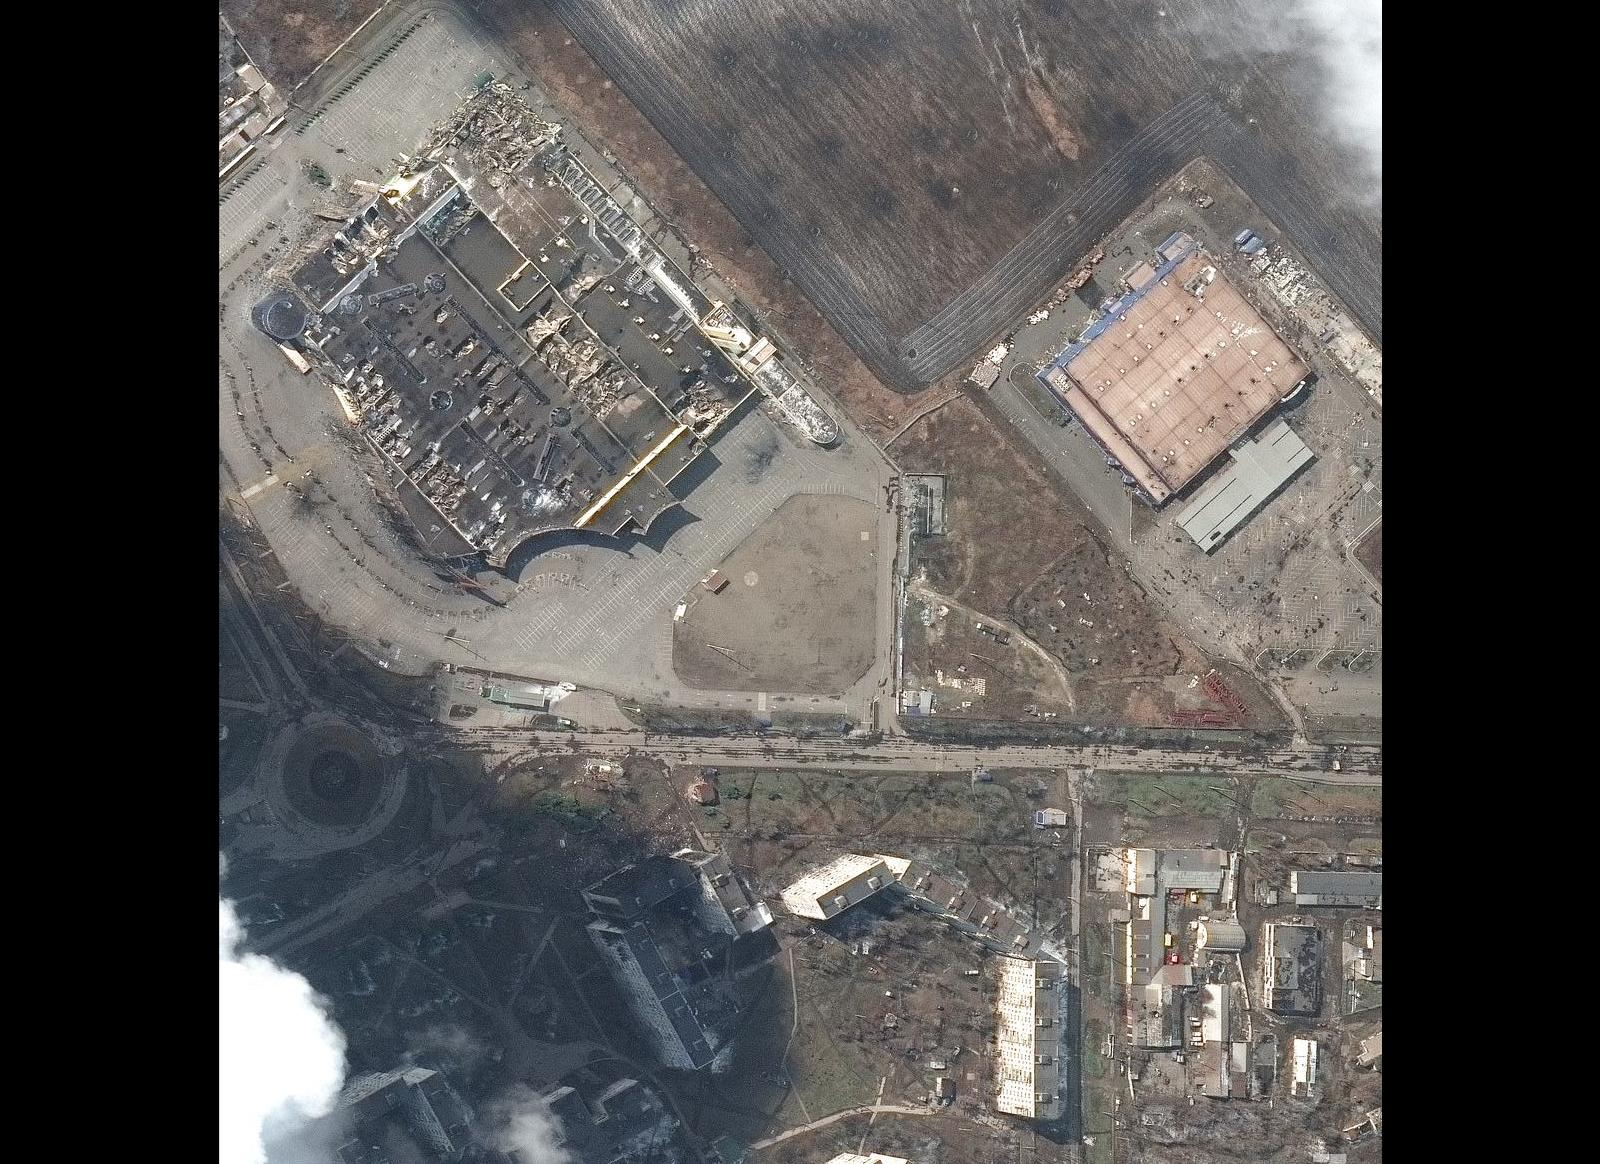demaged-building-high: (270, 96, 769, 680)
